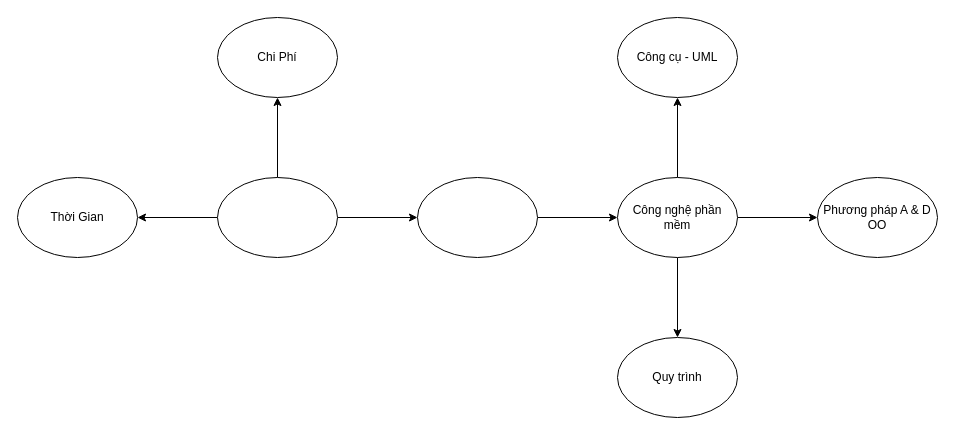
This 955x435 diagram has some shape labels left out. Here are the shapes that lost their labels. From the top down, the centre of each, then its label:
At point 277,217: "Tốt".
At point 477,217: "Chất lượng".
